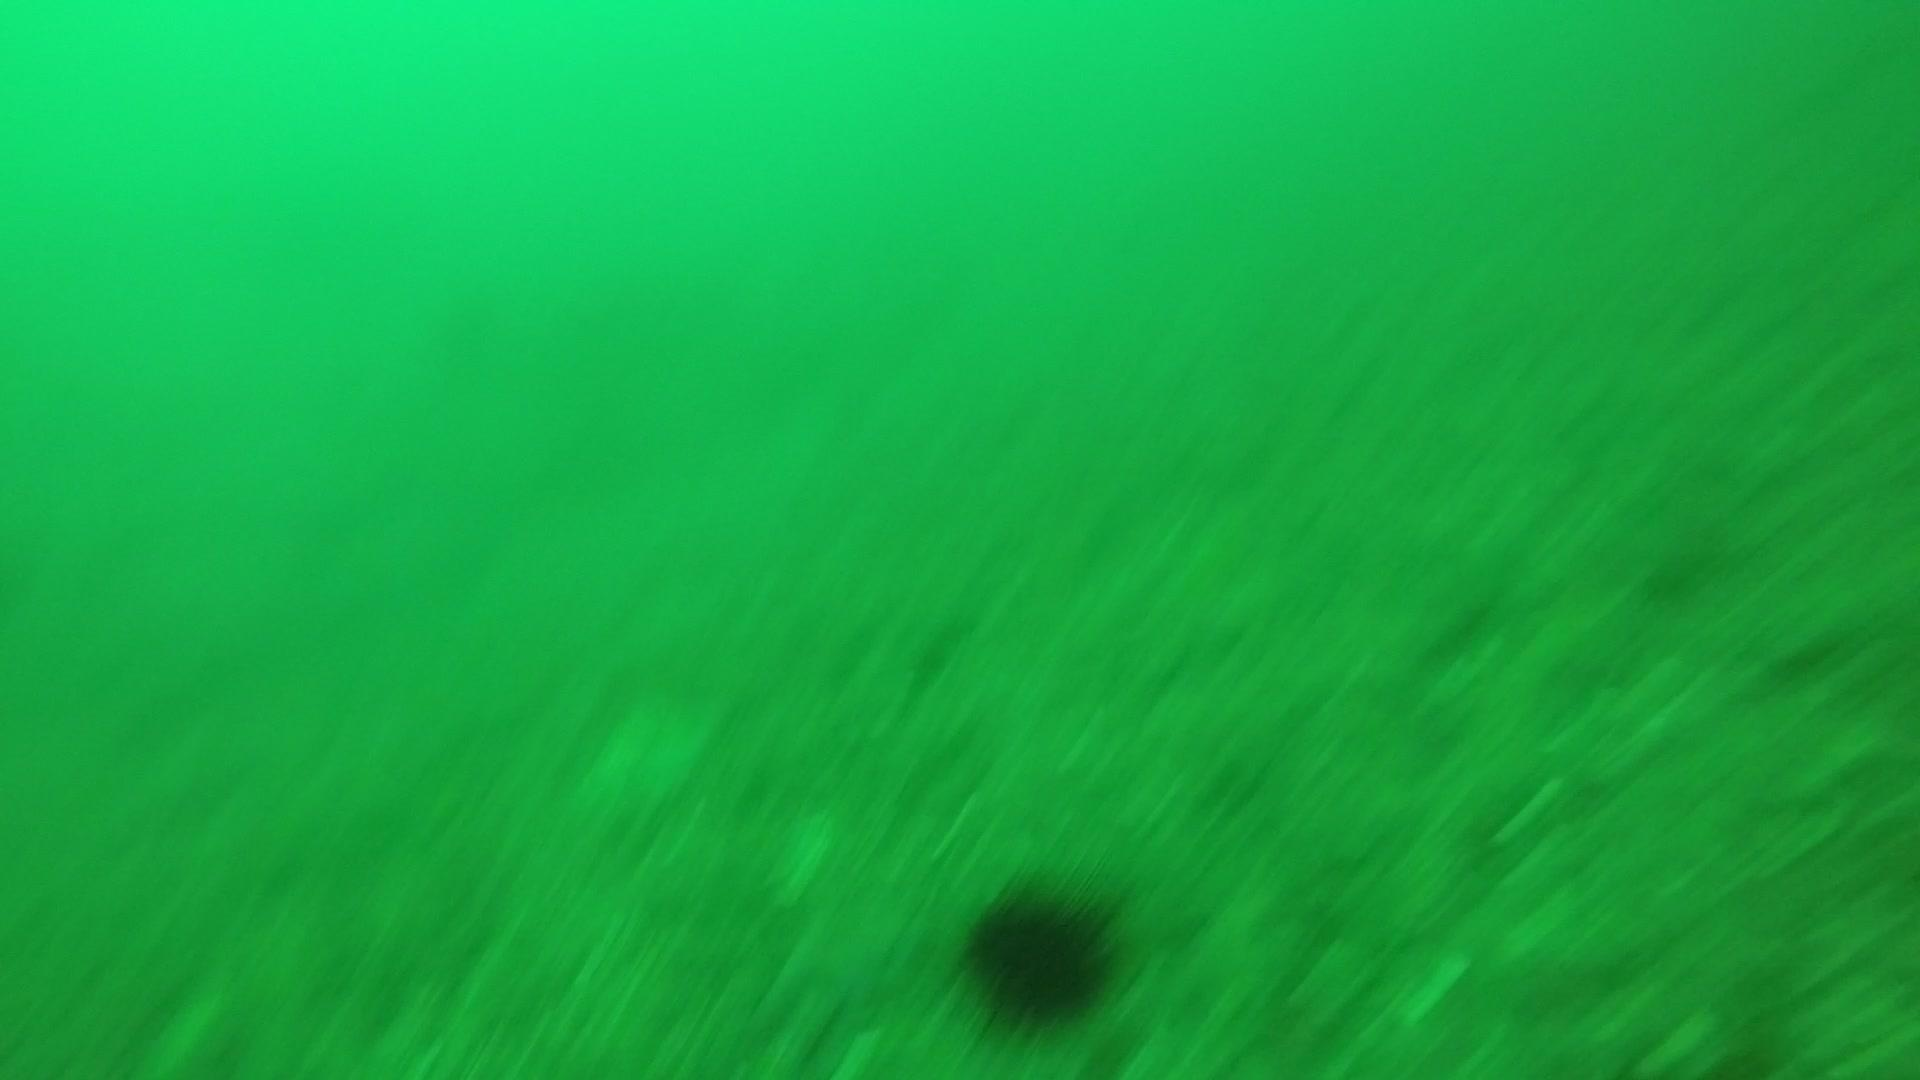echinus: (956, 876, 1126, 1030)
starfish: (1, 247, 3, 393)
